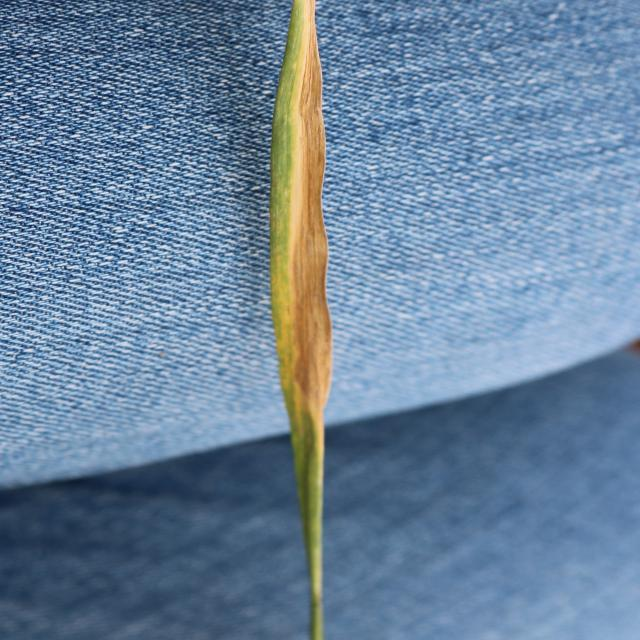Septoria: (302, 58, 326, 416)
